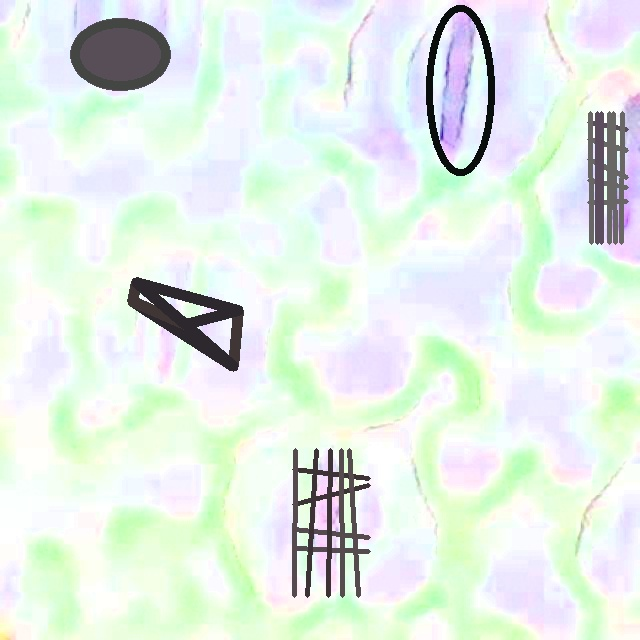open: (425, 4, 495, 175), (292, 448, 370, 597), (128, 278, 242, 371), (70, 18, 170, 90), (587, 111, 628, 244)
